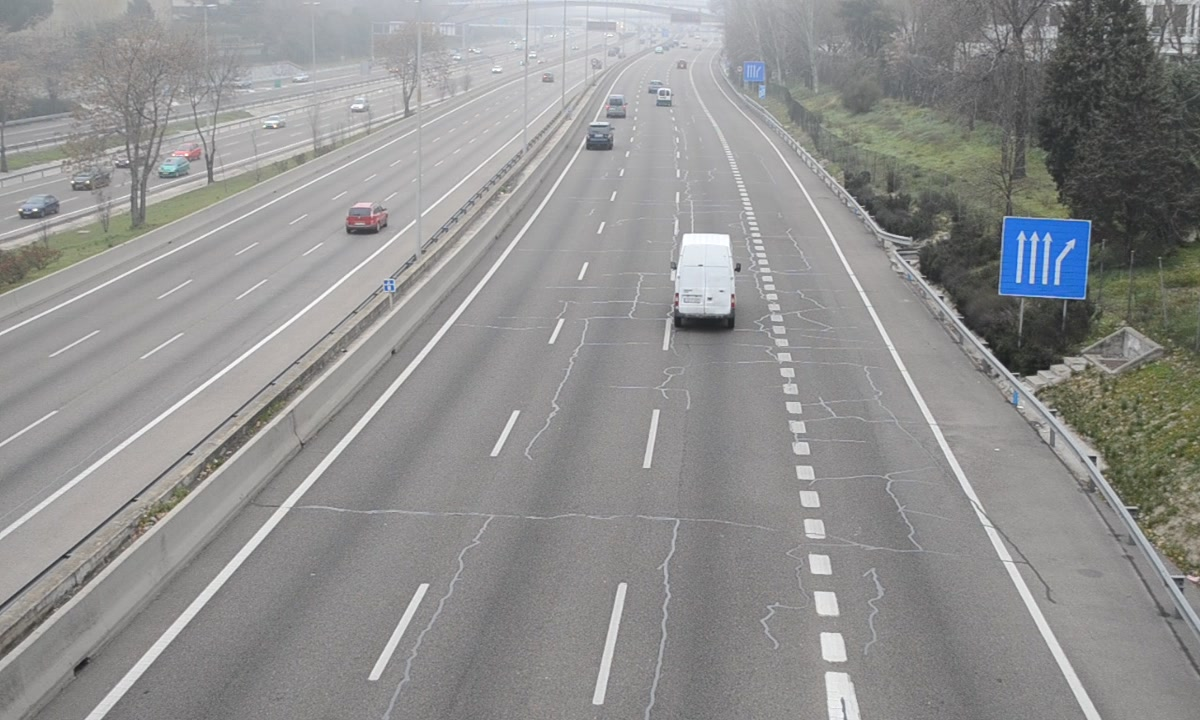car: (587, 123, 613, 148)
van: (673, 232, 737, 330), (607, 92, 626, 120)
